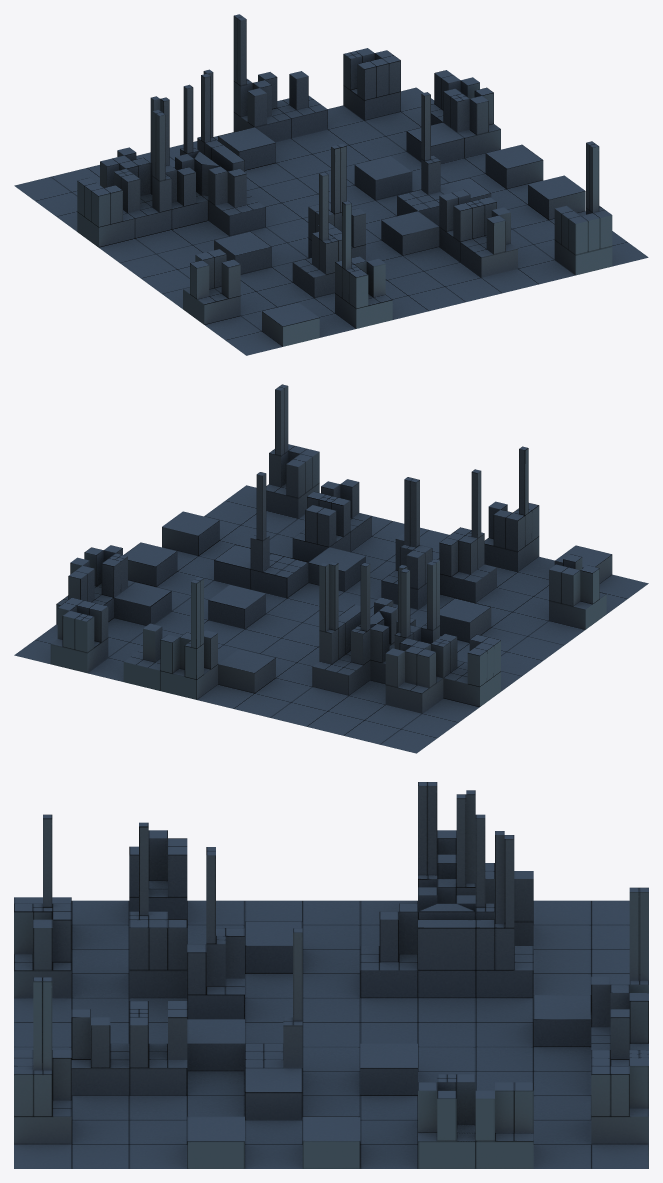
File: vr-environment.obj
The picture shows the model from 3 angles, top to bottom: view 1: azimuth 30°, elevation 25°; view 2: azimuth 150°, elevation 25°; view 3: azimuth 270°, elevation 25°; orthographic projection. The views are drawn at different scales.
Visible parts, largest first — view 1: Plane.001_Plane.002; view 2: Plane.001_Plane.002; view 3: Plane.001_Plane.002.
Part boxes in pixels (x1,y1,x2,y2): Plane.001_Plane.002: (14, 14, 648, 355); Plane.001_Plane.002: (14, 384, 648, 753); Plane.001_Plane.002: (14, 782, 648, 1168).
Size of the model in its own units: 23.48 by 6.49 by 23.48.
1 material, 1 textured.
